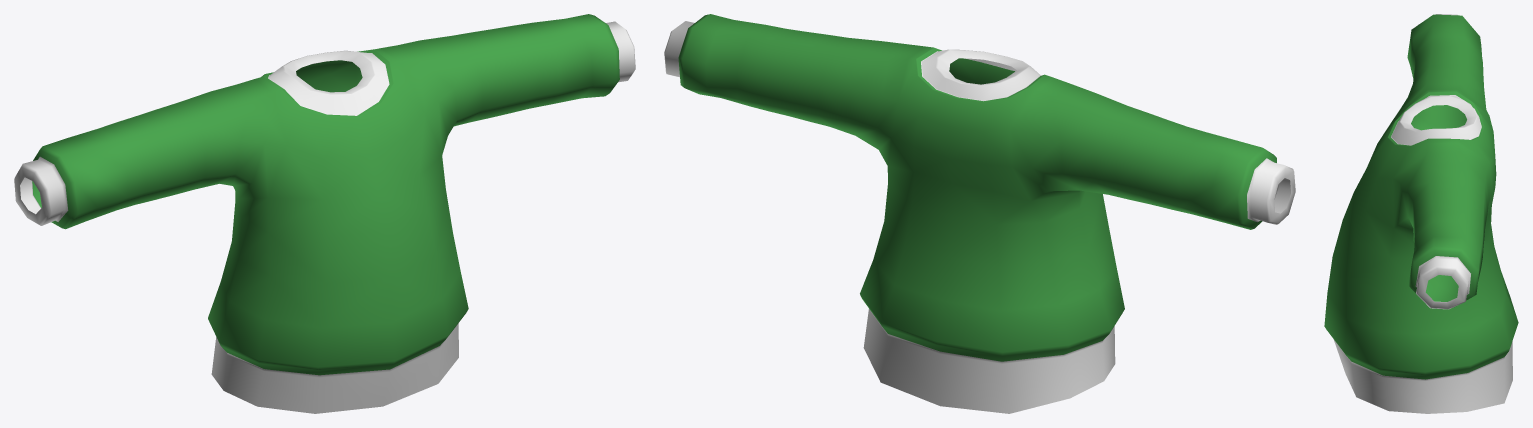
Rendered from Outerwear_Green_007.glb.
The picture shows the model from 3 angles, left to right: view 1: azimuth 30°, elevation 25°; view 2: azimuth 150°, elevation 25°; view 3: azimuth 270°, elevation 25°; orthographic projection. The views are drawn at different scales.
Visible parts, largest first — view 1: Outerwear_Green_007; view 2: Outerwear_Green_007; view 3: Outerwear_Green_007.
Boxes of the visible parts, x1,y1,x2,y2 form: Outerwear_Green_007: (14,14,635,413); Outerwear_Green_007: (664,14,1295,413); Outerwear_Green_007: (1324,14,1518,413).
Bounding box in the file's own units: 1.29 × 0.637 × 0.4186.
Materials: 1 (1 with a texture image).
